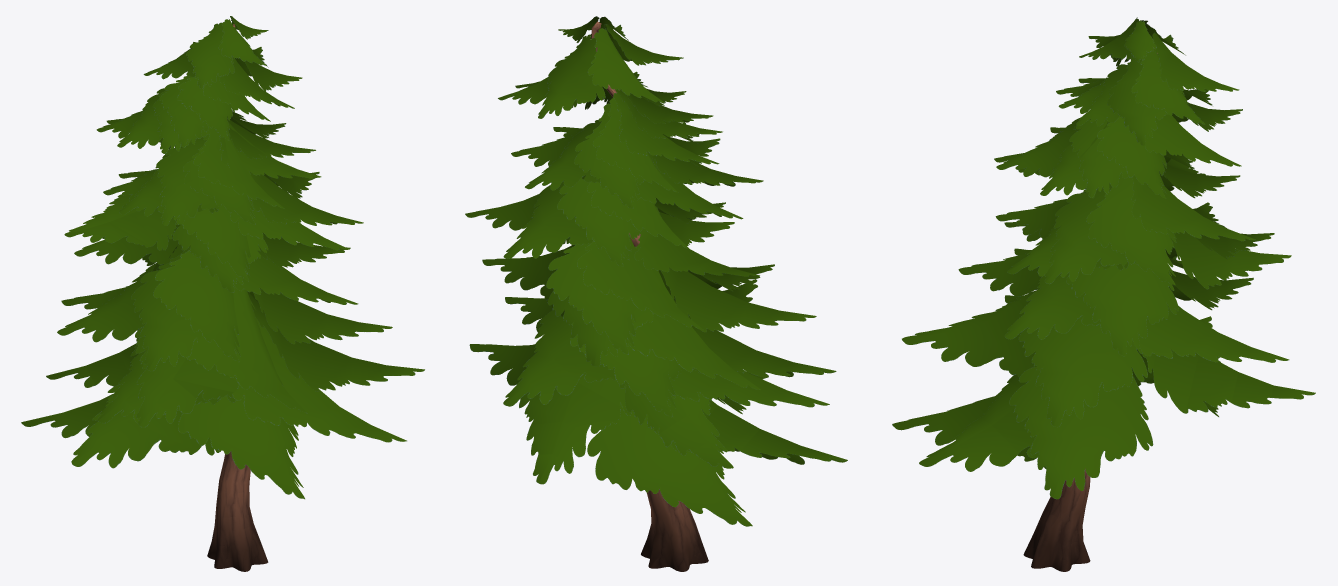
The model's file is tree_pine_5.glb.
3 views of the same model, side by side, from view 1: azimuth 30°, elevation 25°; view 2: azimuth 150°, elevation 25°; view 3: azimuth 270°, elevation 25° (orthographic). The views are drawn at different scales.
Parts seen in each view (by area): view 1: Pine_5; view 2: Pine_5; view 3: Pine_5.
Part boxes in pixels (x1=…): Pine_5: x1=21, y1=16, x2=424, y2=571; Pine_5: x1=465, y1=16, x2=847, y2=571; Pine_5: x1=892, y1=17, x2=1315, y2=571.
Bounding box in the file's own units: 6.42 × 8.72 × 6.22.
Materials: 2 (2 with a texture image).
